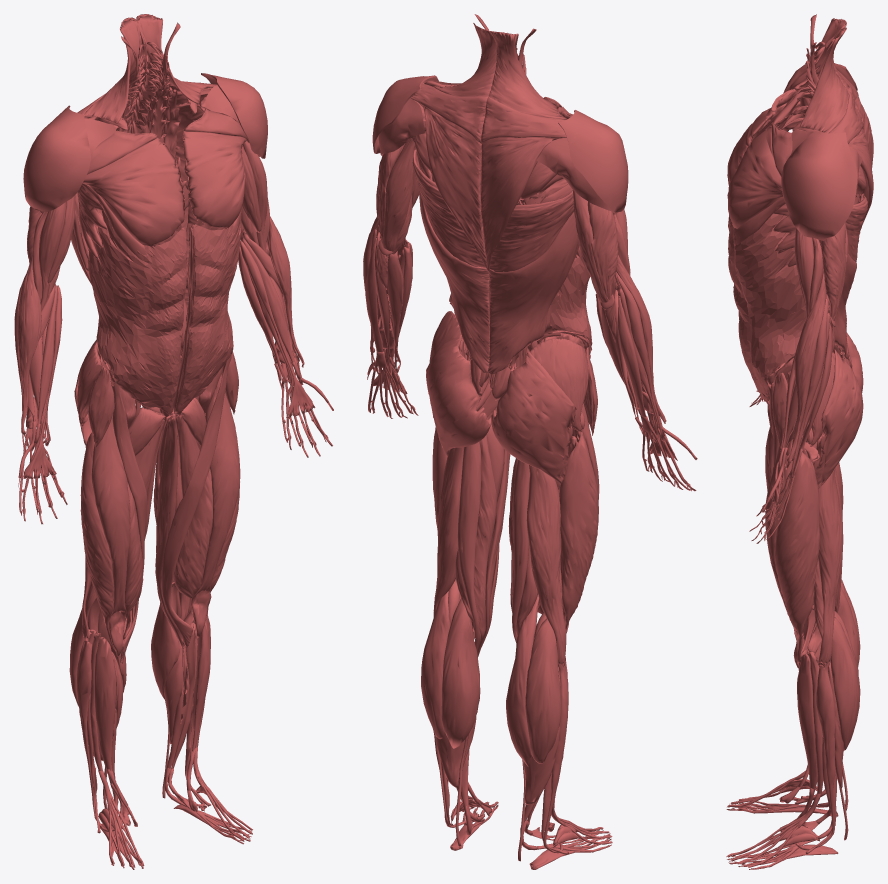
File: anatomy_muscles.glb
3 views of the same model, side by side, from view 1: azimuth 30°, elevation 25°; view 2: azimuth 150°, elevation 25°; view 3: azimuth 270°, elevation 25° (orthographic). The views are drawn at different scales.
Visible parts, largest first — view 1: obliques, chest, forearms_and_grip, quads, calves, biceps, front_delts, hip_flexors, hip_adductors, spinal_erectors, upper_traps, hip_abductors (+5 smaller); view 2: calves, upper_traps, lats, hamstrings, forearms_and_grip, glutes, front_delts, triceps, quads, hip_adductors, obliques, biceps (+4 smaller); view 3: forearms_and_grip, obliques, calves, chest, front_delts, quads, glutes, hamstrings, upper_traps, biceps, triceps, lats (+3 smaller).
Part boxes in pixels (box(x1,y1,x2,y2)): obliques: box(88, 210, 241, 414); chest: box(77, 93, 249, 261); forearms_and_grip: box(14, 232, 333, 869); quads: box(80, 374, 240, 656); calves: box(69, 583, 210, 833); biceps: box(18, 114, 304, 435); front_delts: box(23, 73, 267, 213); hip_flexors: box(110, 299, 231, 663); hip_adductors: box(120, 398, 206, 663); spinal_erectors: box(97, 15, 186, 215); upper_traps: box(77, 14, 216, 132); hip_abductors: box(88, 351, 238, 447); calves: box(421, 579, 568, 861); upper_traps: box(411, 25, 566, 271); lats: box(412, 149, 579, 374); hamstrings: box(433, 434, 566, 664); forearms_and_grip: box(363, 220, 697, 869); glutes: box(426, 311, 588, 484); front_delts: box(372, 75, 628, 214); triceps: box(376, 138, 619, 342); quads: box(432, 349, 599, 639); hip_adductors: box(477, 391, 560, 657); obliques: box(449, 246, 592, 352); biceps: box(370, 107, 666, 423); forearms_and_grip: box(726, 294, 838, 869); obliques: box(728, 213, 806, 401); calves: box(779, 579, 860, 854); chest: box(727, 86, 861, 267); front_delts: box(781, 63, 862, 243); quads: box(765, 426, 819, 668); glutes: box(787, 332, 863, 488); hamstrings: box(807, 433, 843, 665); upper_traps: box(799, 19, 873, 228); biceps: box(787, 98, 826, 463); triceps: box(820, 223, 848, 353); lats: box(834, 196, 867, 360).
Bounding box in the file's own units: 0.6483 × 1.57 × 0.2586.
